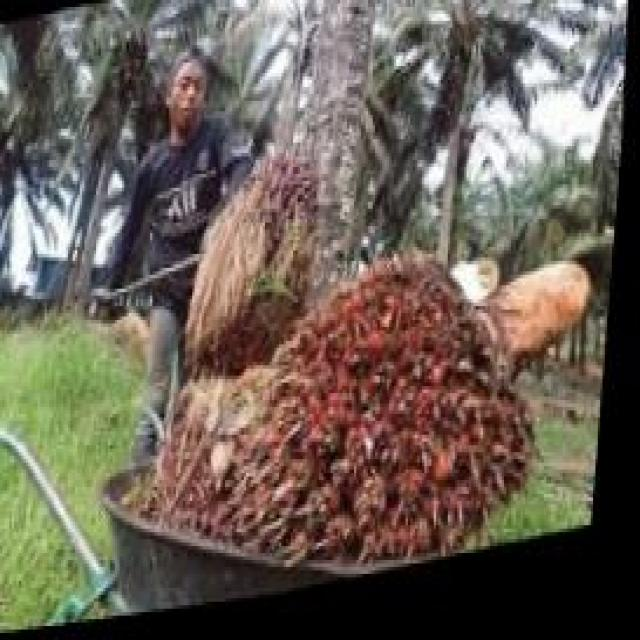Ripefruit: (284, 235, 562, 593)
